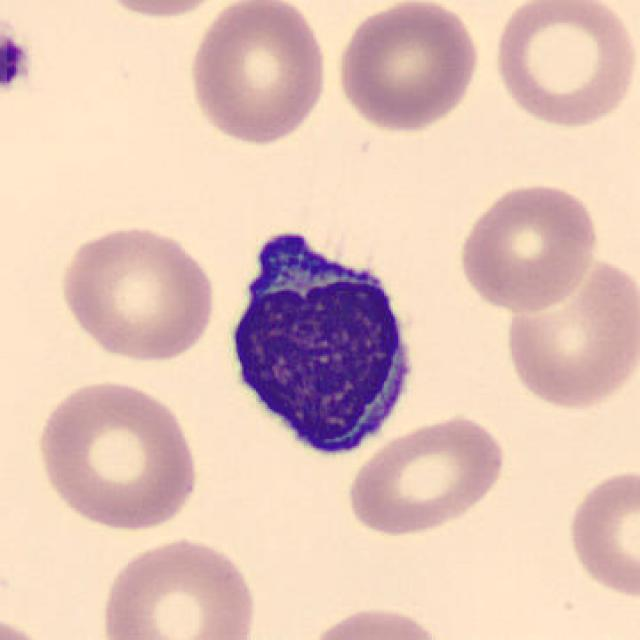Lymphocyte: (213, 215, 427, 469)
Platelets: (0, 30, 30, 95)
RBC: (31, 374, 204, 534), (54, 220, 220, 365), (498, 252, 638, 413), (183, 0, 333, 148), (343, 411, 510, 538), (332, 0, 483, 136), (453, 178, 601, 316), (488, 0, 638, 130), (96, 532, 261, 640), (562, 464, 638, 603), (301, 601, 454, 640), (85, 0, 240, 21), (0, 610, 62, 640)
